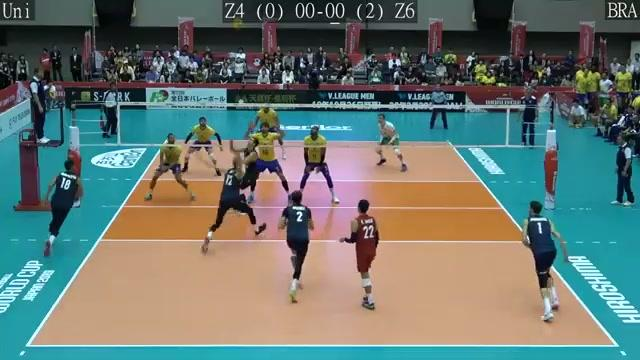ball: (228, 17, 247, 32)
